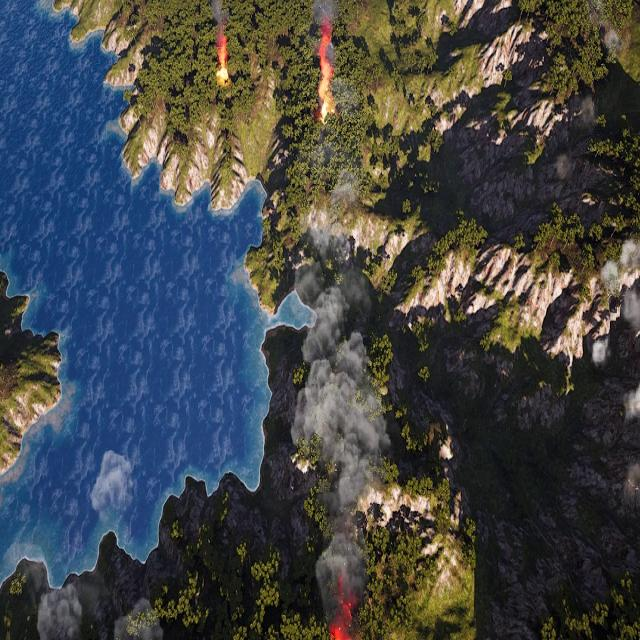fire: (316, 50, 335, 118), (215, 38, 230, 82)
smoke: (290, 130, 392, 636), (317, 0, 339, 58)
